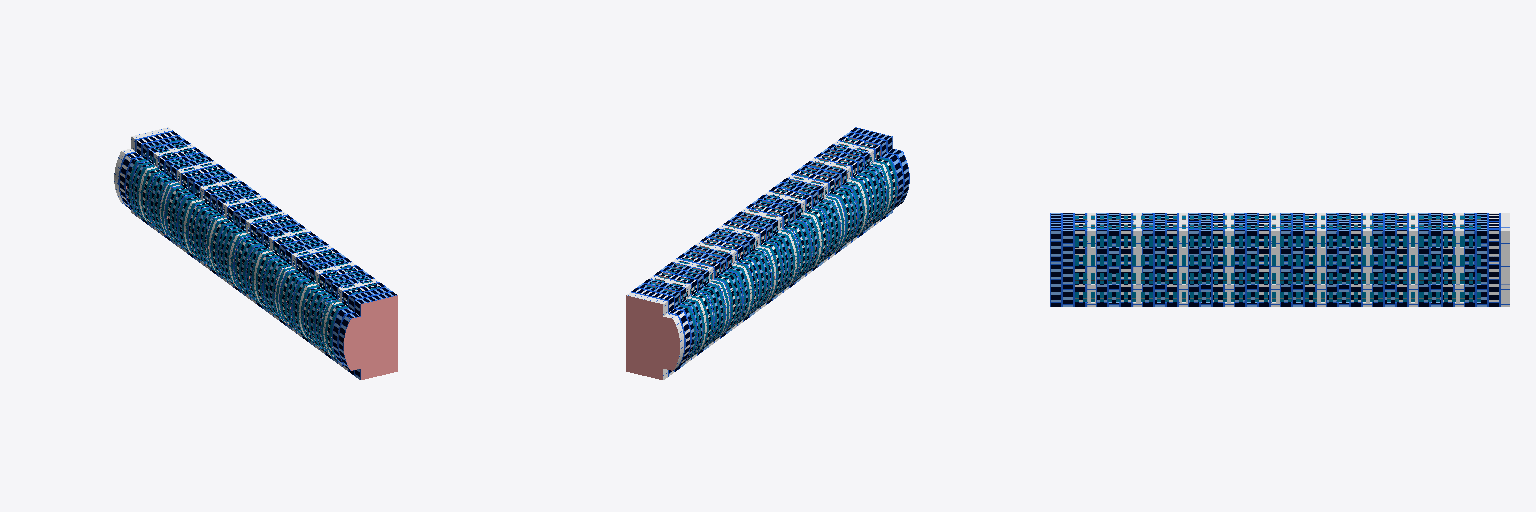
3 renders of one model, left to right at view 1: azimuth 30°, elevation 25°; view 2: azimuth 150°, elevation 25°; view 3: azimuth 270°, elevation 25°, orthographic.
Parts seen in each view (by area): view 1: wall_01, glass_01, slab_01, wall_03, frame_01, wall_04; view 2: wall_01, glass_01, slab_01, wall_03, frame_01; view 3: wall_01, glass_01, wall_03, frame_01.
Boxes of the visible parts, box(x1,y1,x2,y2) form: wall_01: box(127, 136, 384, 370); glass_01: box(129, 140, 379, 360); slab_01: box(126, 176, 397, 379); wall_03: box(114, 127, 396, 379); frame_01: box(126, 144, 376, 360); wall_04: box(145, 139, 378, 303); wall_01: box(639, 136, 894, 370); glass_01: box(647, 138, 896, 359); slab_01: box(626, 138, 897, 379); wall_03: box(627, 127, 909, 379); frame_01: box(653, 142, 897, 360); wall_01: box(1075, 213, 1484, 306); glass_01: box(1075, 216, 1480, 301); wall_03: box(1050, 213, 1509, 306); frame_01: box(1075, 219, 1480, 298).
Bounding box in the file's own units: 917 × 1230 × 6720.
Materials: 4 (1 with a texture image).